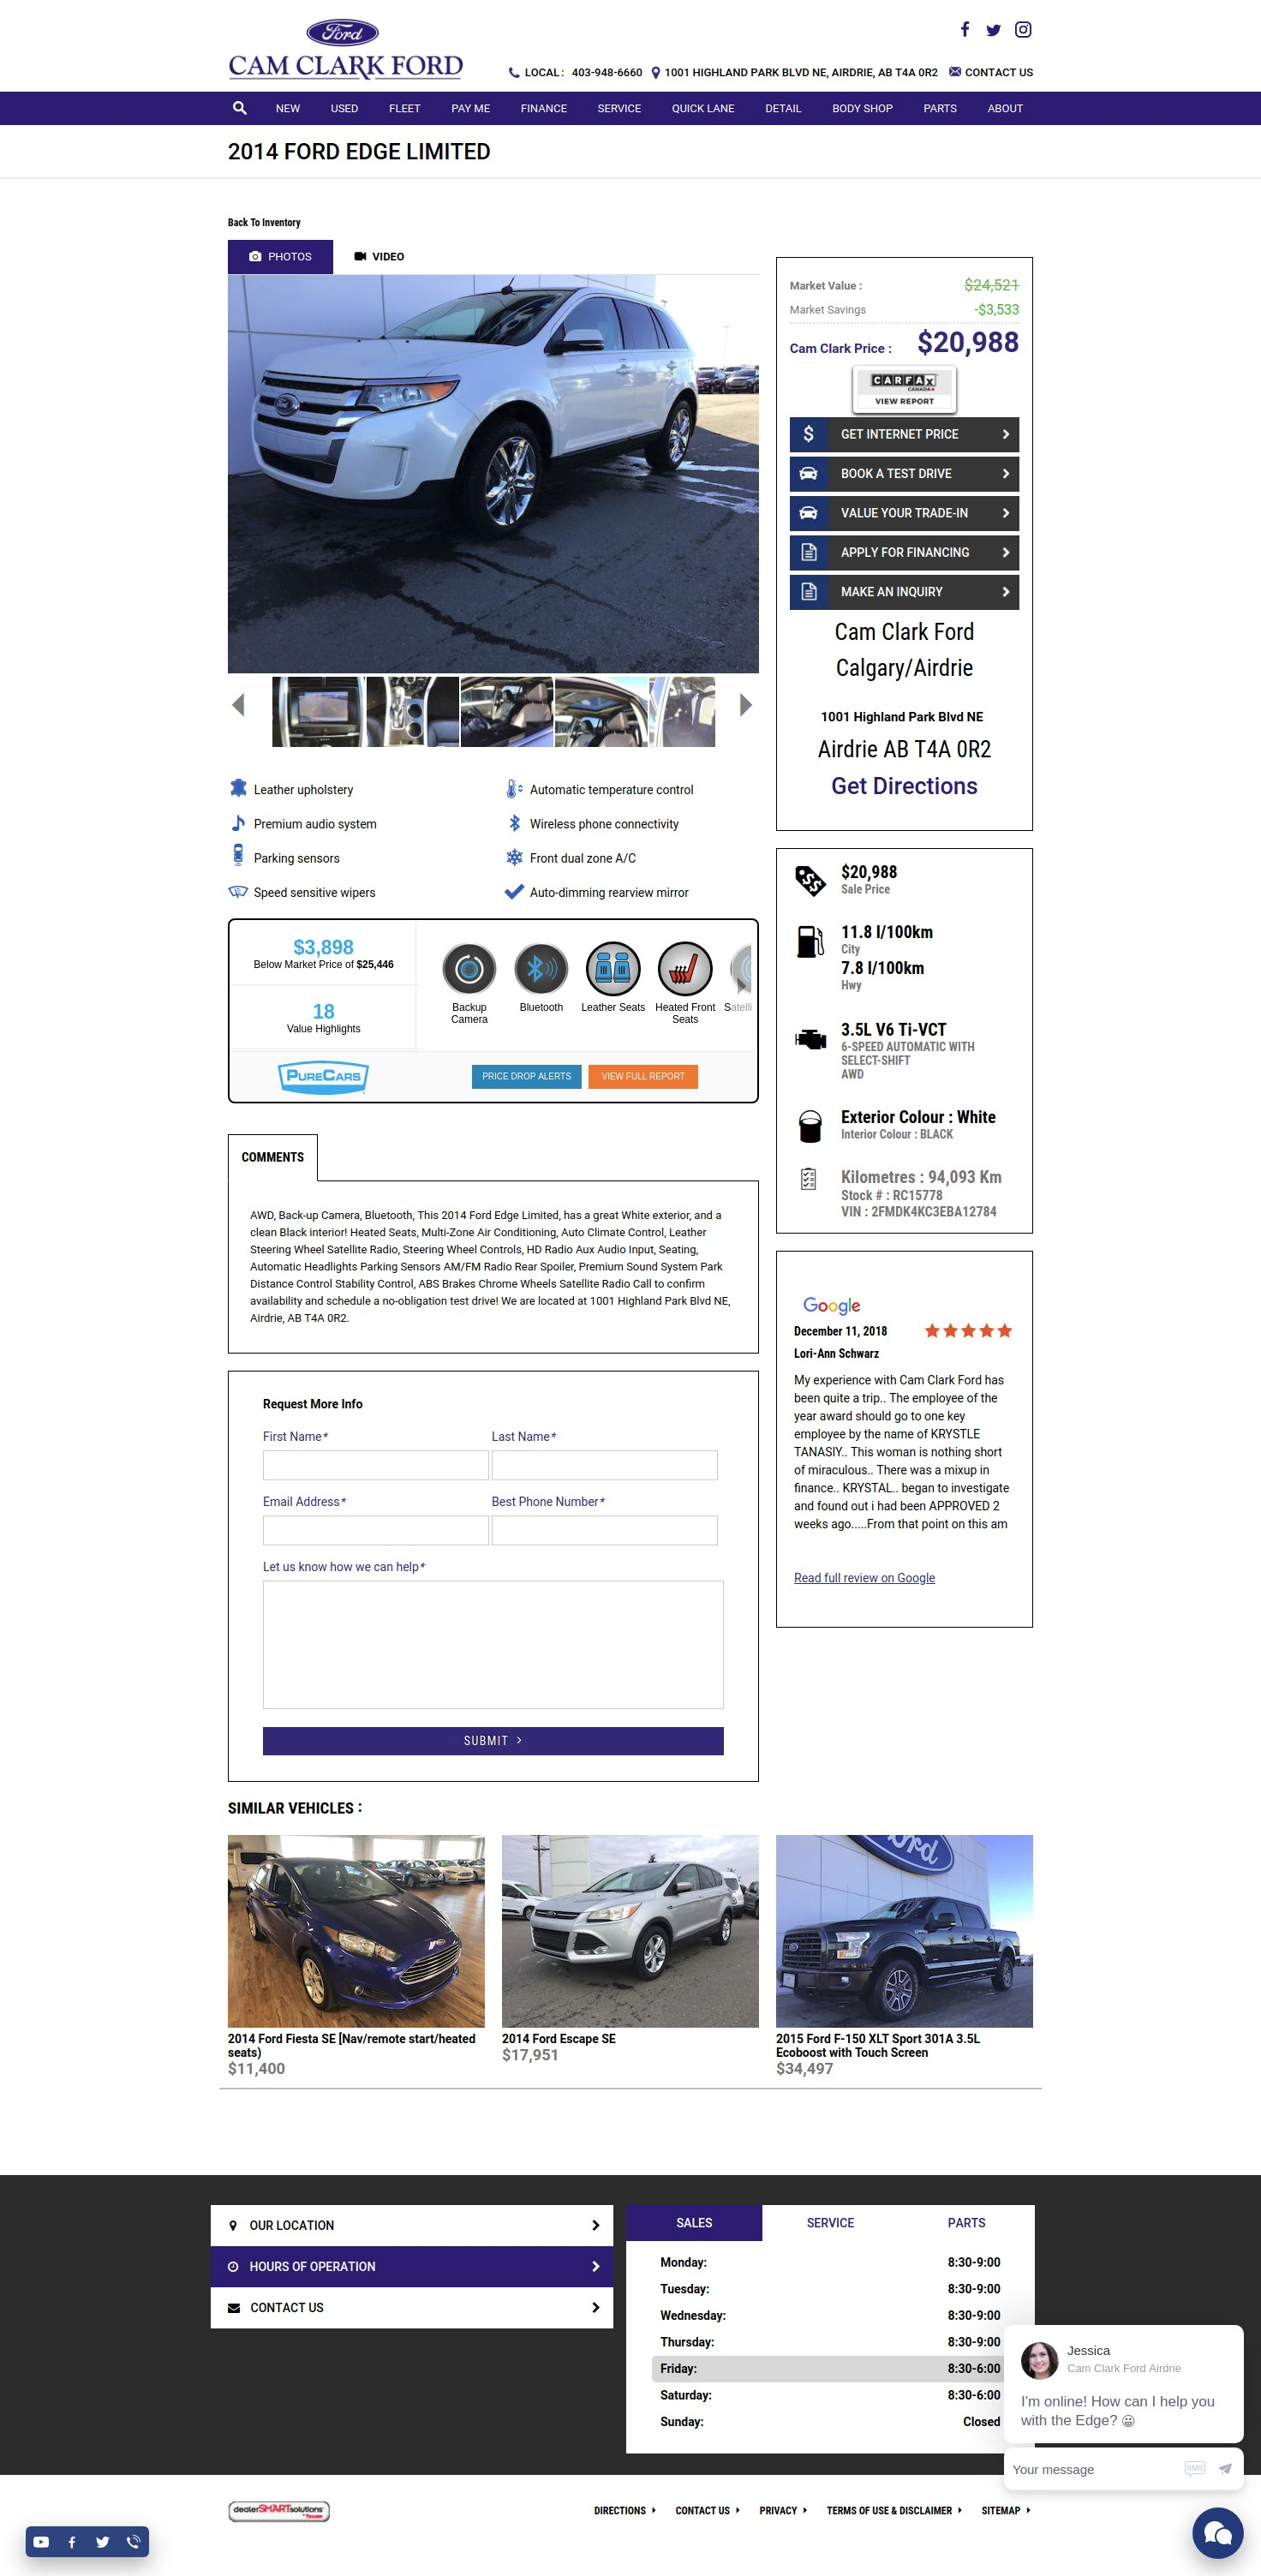car: (737, 692, 755, 720)
